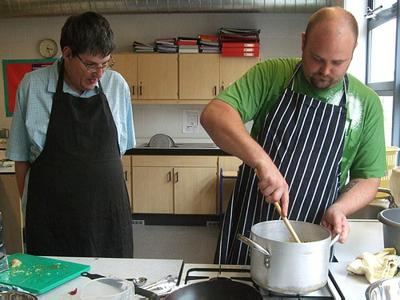person: (198, 9, 385, 264)
